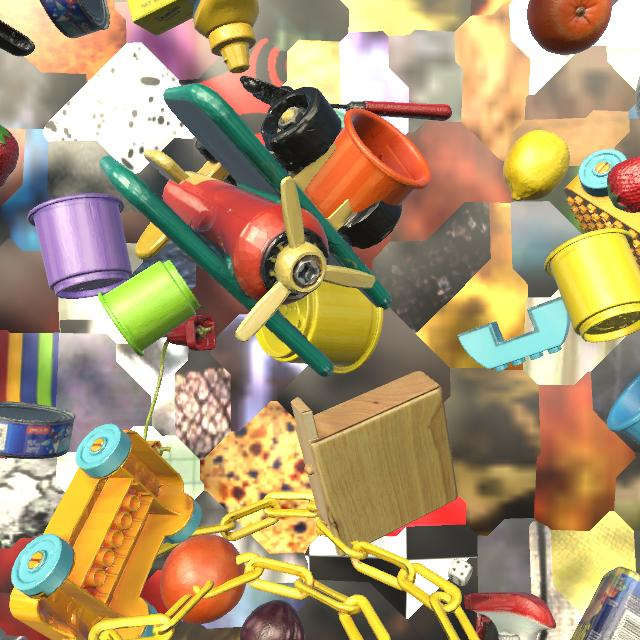ycb_004_sugar_box: (127, 0, 197, 36)
ycb_006_mustard_bottle: (193, 0, 259, 74)
ycb_007_tuna_fish_can: (0, 401, 75, 459), (39, 0, 110, 38)
ycb_010_potted_meat_can: (570, 566, 640, 640)
ycb_012_strawberry: (607, 157, 640, 213), (0, 125, 19, 187)
ycb_014_lemon: (503, 130, 570, 201)
ycb_017_orange: (160, 534, 246, 624), (527, 0, 612, 55)
ycb_018_plum: (240, 600, 306, 640)
